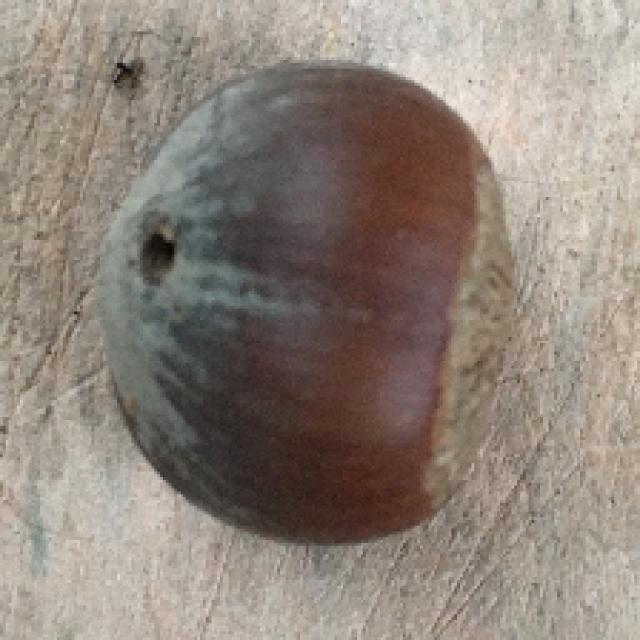damagedHazelnut: (93, 59, 523, 544)
